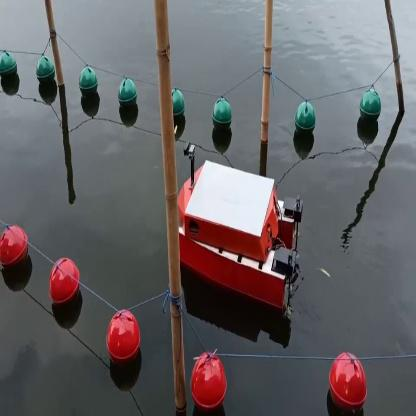green_buoy: (212, 94, 234, 138), (297, 103, 318, 138), (32, 60, 54, 90), (79, 66, 99, 99), (117, 78, 137, 110), (0, 55, 18, 82), (360, 96, 380, 120), (172, 93, 184, 117)
red_buoy: (186, 349, 228, 411), (328, 352, 369, 415), (105, 306, 143, 365), (46, 256, 80, 306), (0, 219, 29, 274)
